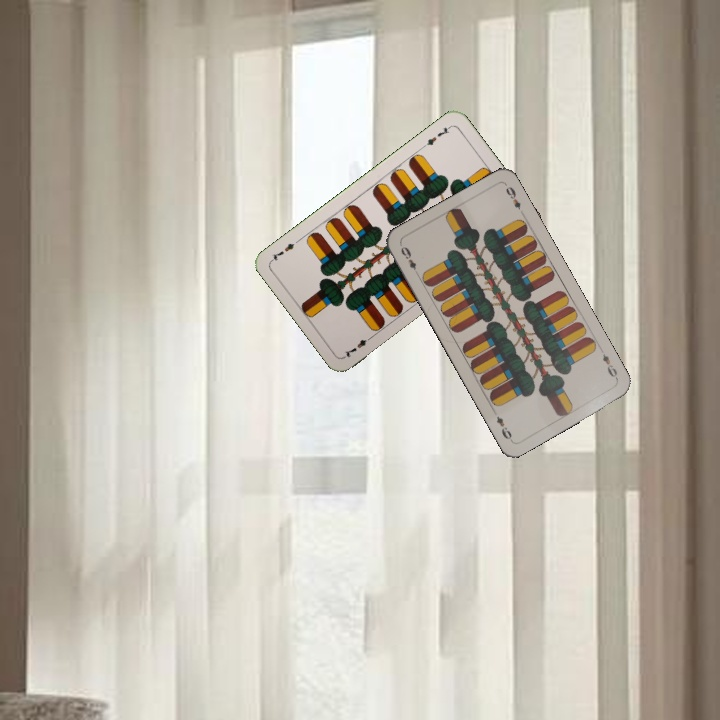E7: (418, 122, 454, 151), (340, 331, 375, 360)
E9: (396, 241, 422, 278), (596, 345, 621, 382)
